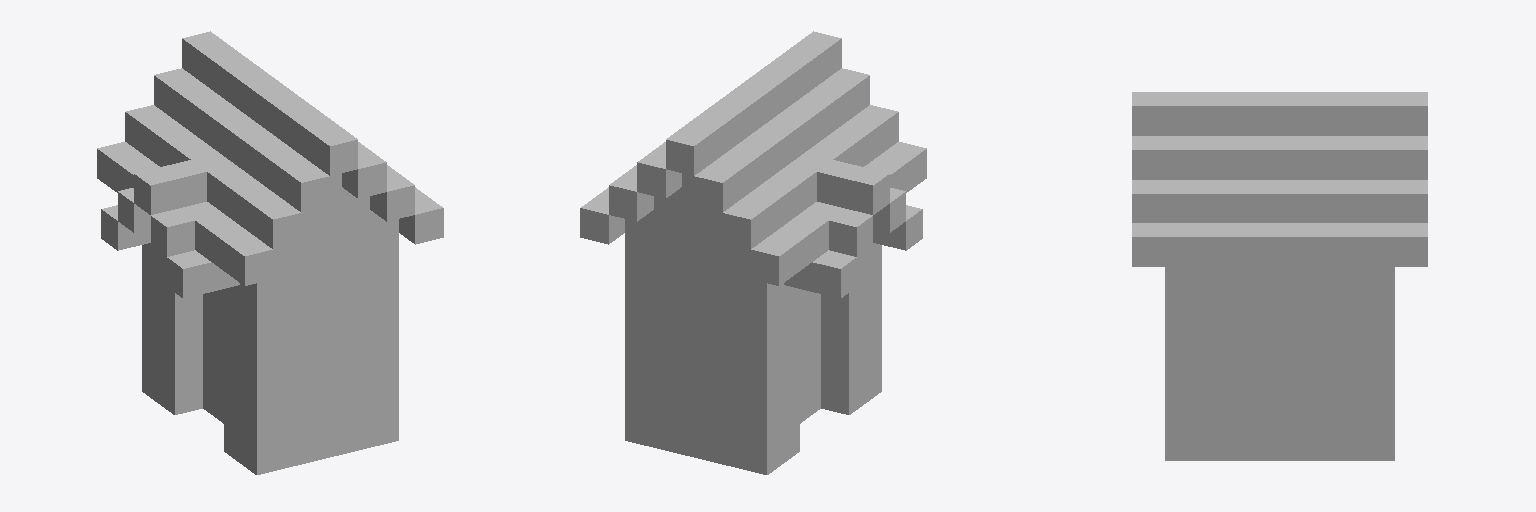
The model's file is Farmer's house.obj.
The picture shows the model from 3 angles: view 1: azimuth 30°, elevation 25°; view 2: azimuth 150°, elevation 25°; view 3: azimuth 270°, elevation 25°; orthographic projection.
Size of the model in its own units: 8 by 11 by 9.